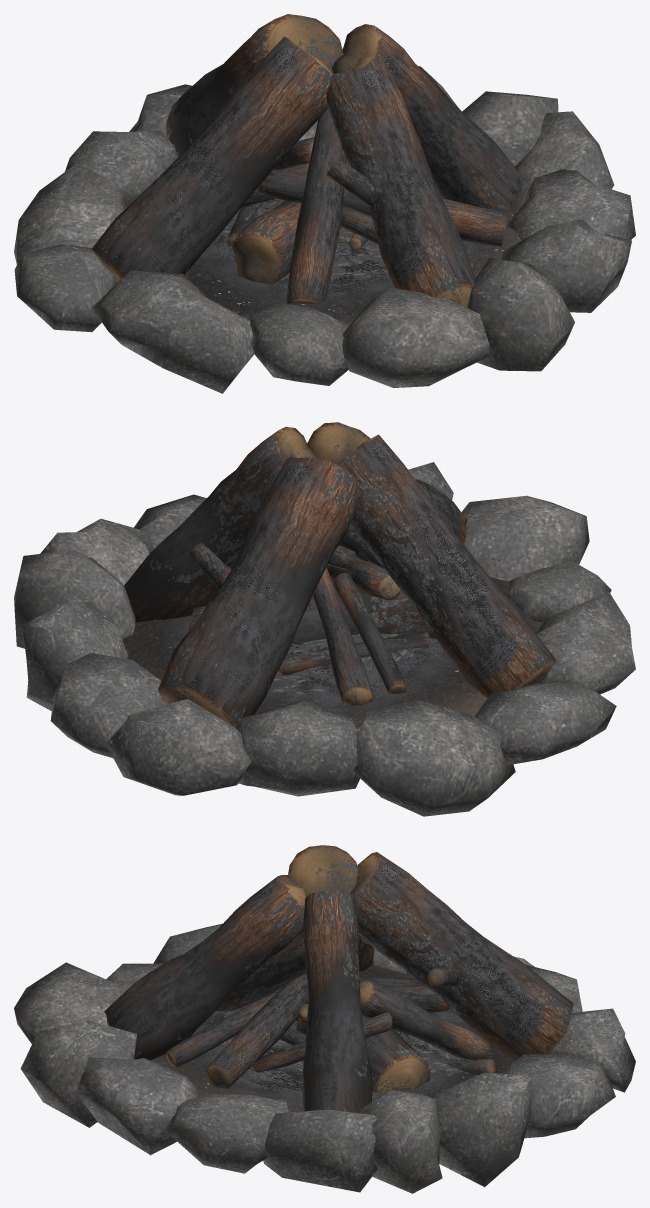
File: CfWood.fbx
3 renders of one model, top to bottom at view 1: azimuth 30°, elevation 25°; view 2: azimuth 150°, elevation 25°; view 3: azimuth 270°, elevation 25°, orthographic. The views are drawn at different scales.
Visible parts, largest first — view 1: CampFire; view 2: CampFire; view 3: CampFire.
Boxes of the visible parts, bbox=[...] form: CampFire: bbox=[14, 14, 635, 393]; CampFire: bbox=[14, 422, 635, 816]; CampFire: bbox=[14, 845, 635, 1193].
Bounding box in the file's own units: 1.68 × 0.7963 × 1.78.
